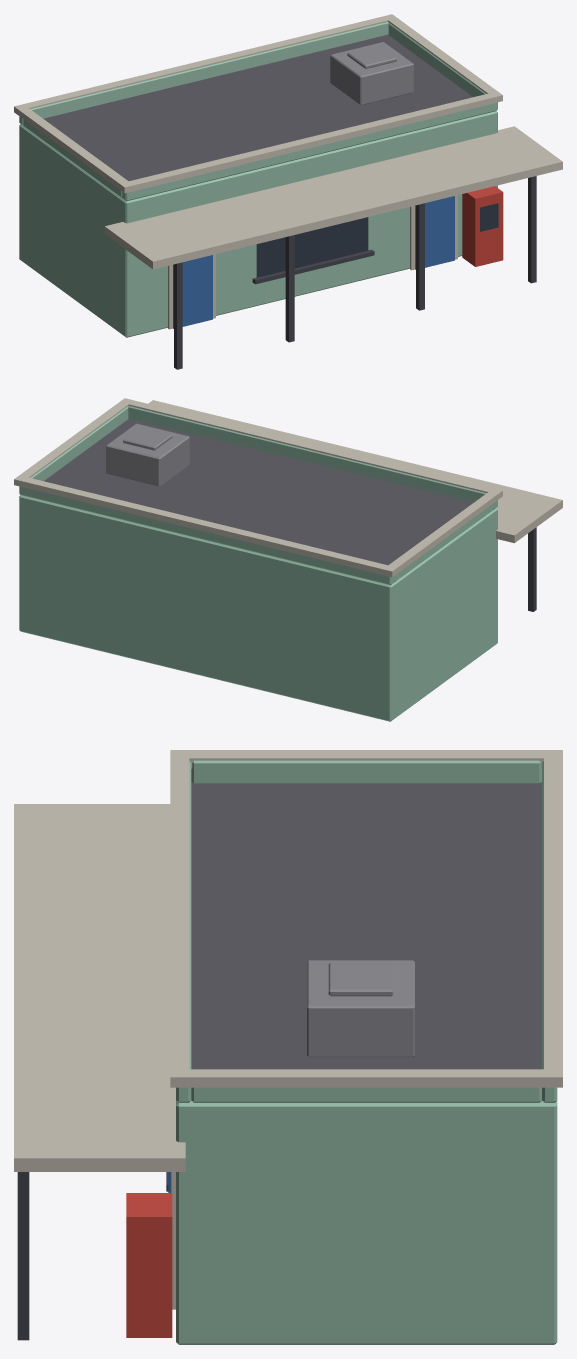
Rendered from RestStop.fbx.
3 views of the same model, one above another, from view 1: azimuth 30°, elevation 25°; view 2: azimuth 150°, elevation 25°; view 3: azimuth 270°, elevation 25° (orthographic). The views are drawn at different scales.
Parts seen in each view (by area): view 1: RestStop_Body, RestStop_Trim, RestStop_Roof, RestStop_Frame, RestStop_Doors, RestStop_Windows, RestStop_RoofUnits, RestStop_Accent; view 2: RestStop_Body, RestStop_Roof, RestStop_Trim, RestStop_RoofUnits, RestStop_Frame; view 3: RestStop_Body, RestStop_Roof, RestStop_Trim, RestStop_RoofUnits, RestStop_Accent, RestStop_Frame.
Part boxes in pixels (bbox=[...]): RestStop_Body: bbox=[19, 22, 497, 337]; RestStop_Trim: bbox=[14, 14, 562, 329]; RestStop_Roof: bbox=[43, 34, 472, 180]; RestStop_Frame: bbox=[174, 176, 536, 369]; RestStop_Doors: bbox=[173, 196, 454, 328]; RestStop_Windows: bbox=[256, 203, 498, 277]; RestStop_RoofUnits: bbox=[330, 42, 413, 105]; RestStop_Accent: bbox=[462, 186, 503, 266]; RestStop_Body: bbox=[19, 406, 497, 721]; RestStop_Roof: bbox=[44, 418, 473, 565]; RestStop_Trim: bbox=[14, 398, 562, 577]; RestStop_RoofUnits: bbox=[106, 423, 189, 486]; RestStop_Frame: bbox=[528, 527, 536, 611]; RestStop_Body: bbox=[176, 760, 557, 1344]; RestStop_Roof: bbox=[191, 782, 541, 1069]; RestStop_Trim: bbox=[14, 750, 562, 1309]; RestStop_RoofUnits: bbox=[307, 960, 414, 1057]; RestStop_Accent: bbox=[126, 1193, 172, 1337]; RestStop_Frame: bbox=[17, 1172, 168, 1340].
Size of the model in its own units: 44 by 17.7 by 28.8.
